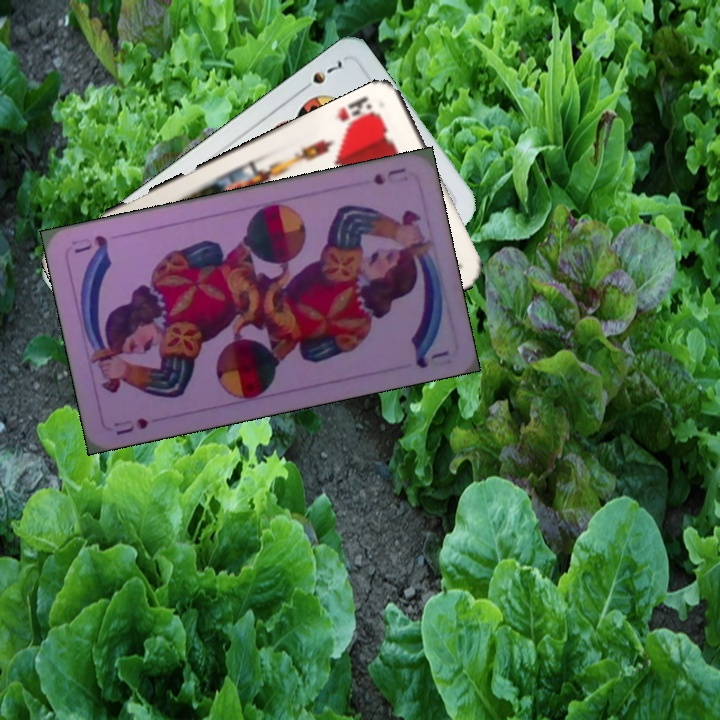HK: (332, 92, 382, 132)
S7: (295, 56, 345, 95)
SU: (109, 414, 151, 438), (369, 164, 408, 187)
